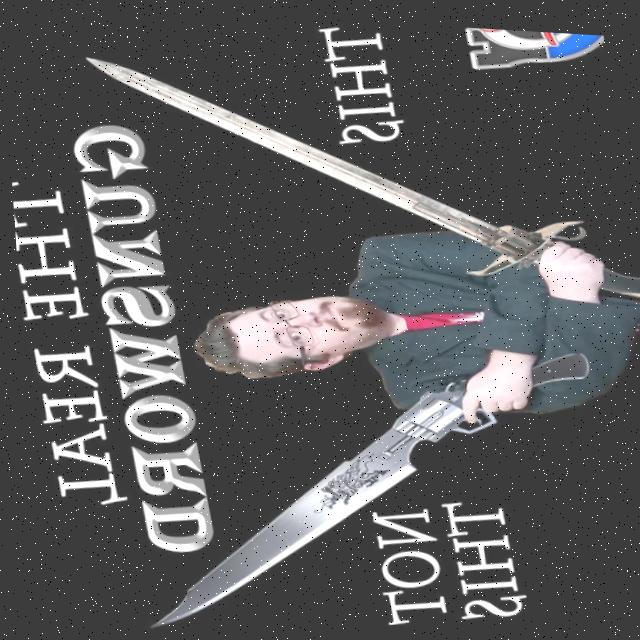knife: (81, 8, 489, 280), (105, 430, 448, 640)
